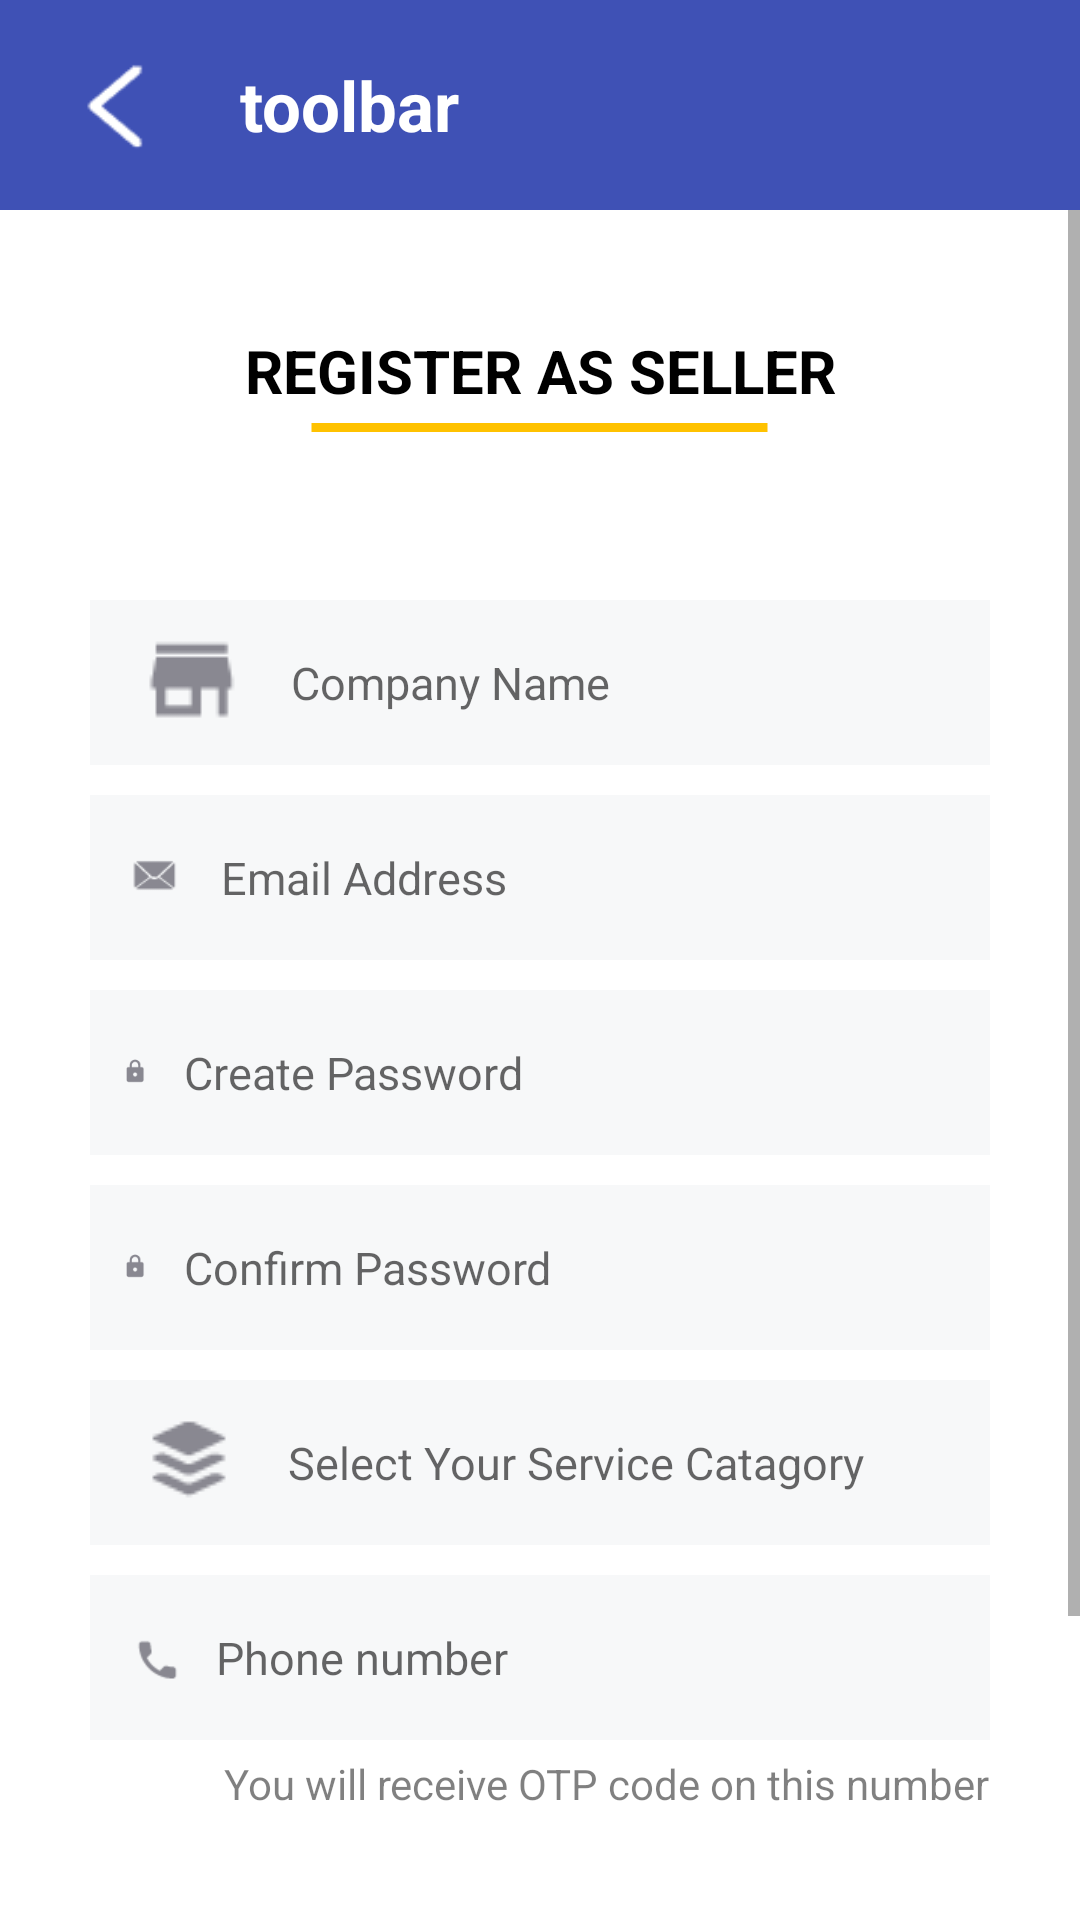

Point at icon controls on the screen. Image size 1080 x 1920, points as (x,y).
back: (115,106)
